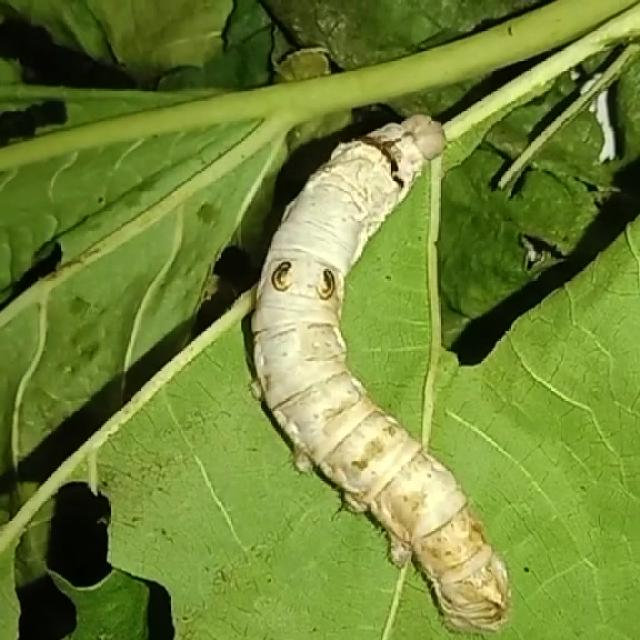Grasserie: (240, 80, 527, 640)
